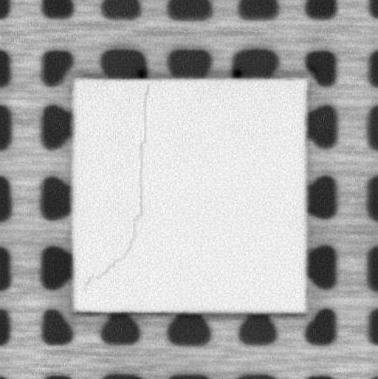DIE_CRACK: (83, 83, 150, 288)
